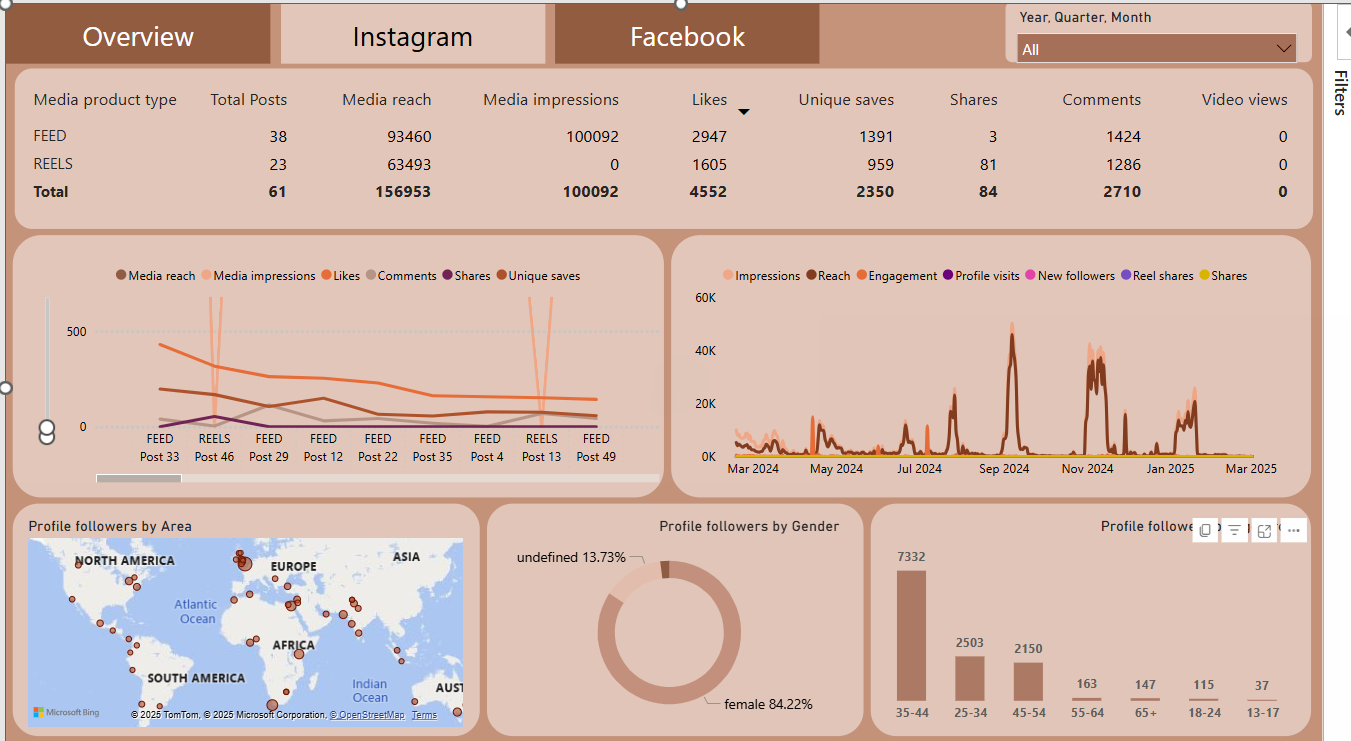

This screenshot's page, from the dashboard's own definition file:
{"tool":"powerbi","page":{"name":"Instagram","canvas":[1280,720],"ordinal":1},"visuals":[{"type":"map","title":"Profile followers by Area","fields":{"Category":["Instagram Top Cities Regions.Area & city","Instagram Top Cities Regions.City","Instagram Top Cities Regions.Area"],"Size":["Sum(Instagram Top Cities Regions.Profile followers)"]},"box":[16.2,498.8,432.5,208.8],"z":0},{"type":"columnChart","title":"Profile followers by Age Group","fields":{"Category":["Instagram Age Gender Demographi.Age Group"],"Y":["Sum(Instagram Age Gender Demographi.Profile followers)"]},"box":[838.8,498.8,426.2,208.8],"z":1},{"type":"lineChart","fields":{"Category":["Instagram Profile Overview.Date.Variation.Date Hierarchy.Year","Instagram Profile Overview.Date.Variation.Date Hierarchy.Quarter","Instagram Profile Overview.Date.Variation.Date Hierarchy.Month","Instagram Profile Overview.Date.Variation.Date Hierarchy.Day"],"Y":["Sum(Instagram Profile Overview.Profile impressions)","Sum(Instagram Profile Overview.Profile reach)","Sum(Instagram Profile Overview.Engagement)","Sum(Instagram Profile Overview.Profile visits)","Sum(Instagram Profile Overview.New followers)","Sum(Instagram Profile Overview.Reel shares)","Sum(Instagram Profile Overview.Shares)"]},"box":[665,243.8,577.5,226.2],"z":2},{"type":"lineChart","fields":{"Category":["Instagram Post Engagement.Media Label","Instagram Post Engagement.Media product type"],"Y":["Sum(Instagram Post Engagement.Media reach)","Sum(Instagram Post Engagement.Media impressions)","Sum(Instagram Post Engagement.Like count)","Sum(Instagram Post Engagement.Comments count)","Sum(Instagram Post Engagement.Shares)","Sum(Instagram Post Engagement.Unique saves)"]},"box":[28.8,243.8,611.2,226.2],"z":3},{"type":"pivotTable","fields":{"Rows":["Instagram Post Engagement.Media product type"],"Values":["Instagram Measures.Total Posts","Sum(Instagram Post Engagement.Media reach)","Sum(Instagram Post Engagement.Media impressions)","Sum(Instagram Post Engagement.Like count)","Sum(Instagram Post Engagement.Unique saves)","Sum(Instagram Post Engagement.Shares)","Sum(Instagram Post Engagement.Comments count)","Sum(Instagram Post Engagement.Video views)"]},"box":[16.2,72.5,1248.8,138.8],"z":4},{"type":"donutChart","title":"Profile followers by Gender","fields":{"Category":["Instagram Age Gender Demographi.Gender"],"Y":["Sum(Instagram Age Gender Demographi.Profile followers)"]},"box":[475,498.8,340,208.8],"z":5},{"type":"slicer","fields":{"Values":["Facebook Profile Overview.Year","Facebook Profile Overview.Quarter","Facebook Profile Overview.Month"]},"box":[971.2,0,293.8,57.5],"z":6},{"type":"textbox","box":[328.8,0,146.2,47.5],"z":7},{"type":"textbox","box":[591.2,0,146.2,47.5],"z":8},{"type":"textbox","box":[77.5,1.2,146.2,47.5],"z":9},{"type":"pageNavigator","box":[0,0,791.2,58.8],"z":10}]}

Visuals, with their boxes on the page's 1280x720 design canvas (x1, y1, x2, y2). These are canvas units, not pixel positions in the 1351x741 screenshot, which may show the page scaled, cropped or inside an application window:
"Profile followers by Area" map: <bbox>16, 499, 449, 708</bbox>
"Profile followers by Age Group" columnChart: <bbox>839, 499, 1265, 708</bbox>
lineChart - Instagram Profile Overview.Date.Variation.Date Hierarchy.Year x Instagram Profile Overview.Date.Variation.Date Hierarchy.Quarter: <bbox>665, 244, 1242, 470</bbox>
lineChart - Instagram Post Engagement.Media Label x Instagram Post Engagement.Media product type: <bbox>29, 244, 640, 470</bbox>
pivotTable - Instagram Post Engagement.Media product type x Instagram Measures.Total Posts: <bbox>16, 72, 1265, 211</bbox>
"Profile followers by Gender" donutChart: <bbox>475, 499, 815, 708</bbox>
slicer - Facebook Profile Overview.Year x Facebook Profile Overview.Quarter: <bbox>971, 0, 1265, 58</bbox>
textbox: <bbox>329, 0, 475, 48</bbox>
textbox: <bbox>591, 0, 737, 48</bbox>
textbox: <bbox>78, 1, 224, 49</bbox>
pageNavigator: <bbox>0, 0, 791, 59</bbox>
